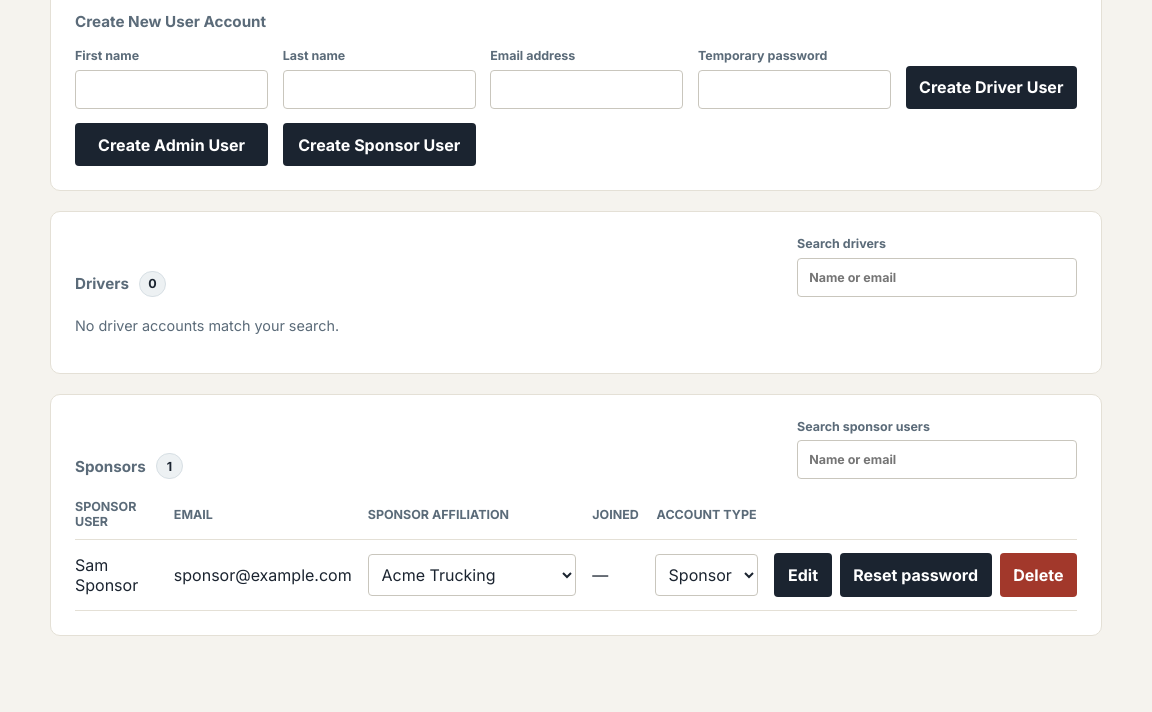
Test case: updates a sponsor organization when its dropdown changes without a save button
(page scrolled)
Select "Roadrunner Logistics" in the 1st dropdown named "Organization for Sam Sponsor" at x=472, y=575, box 368,554 -> 576,596
(page scrolled)
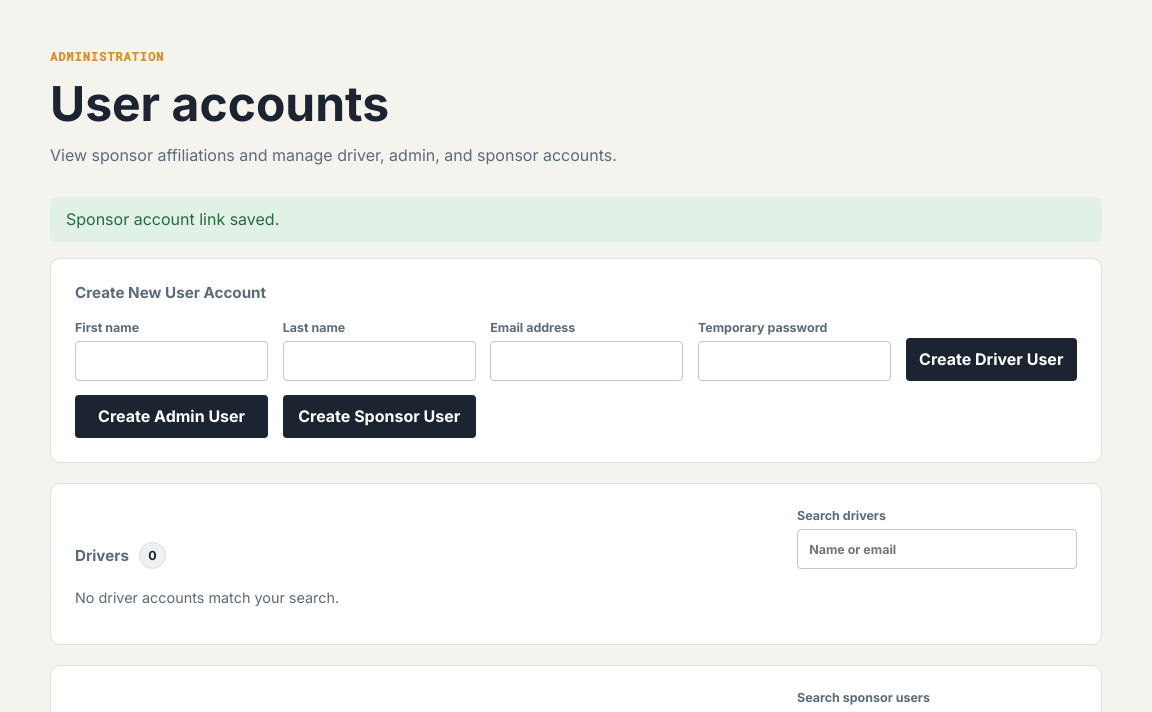
Now the text "Sponsor account link saved." is shown, box 50,197 -> 1102,242
